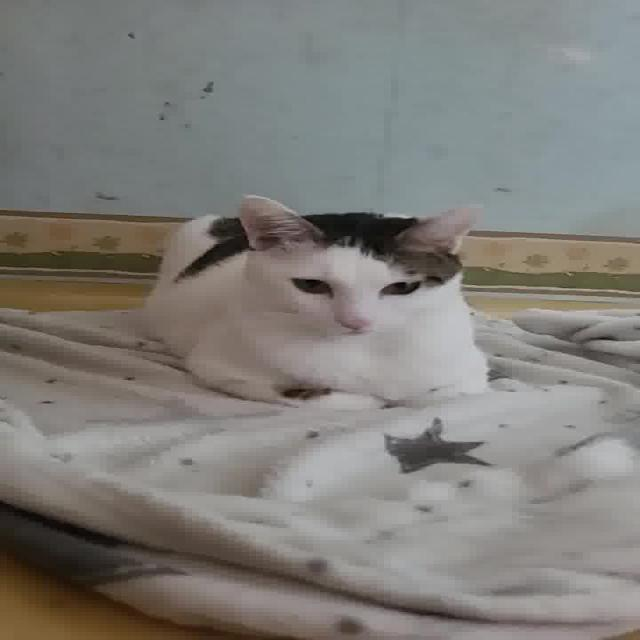cat: (124, 186, 512, 422)
